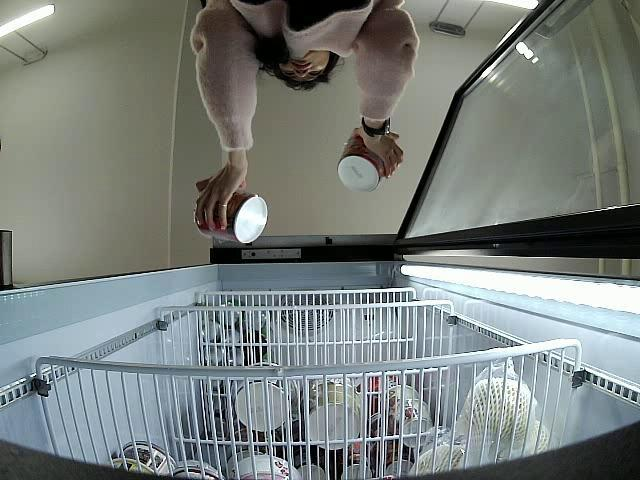01_ShinRamen_L: (194, 186, 268, 246), (337, 128, 382, 195)
